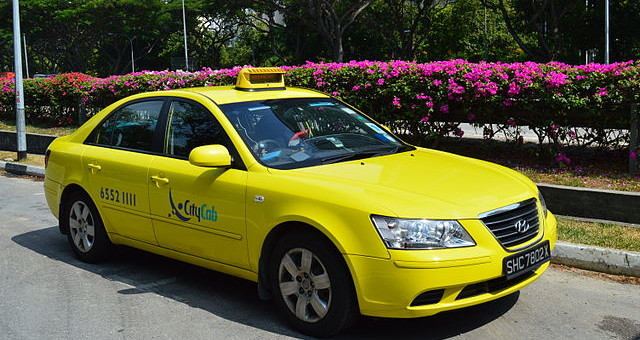car: (28, 59, 569, 340)
